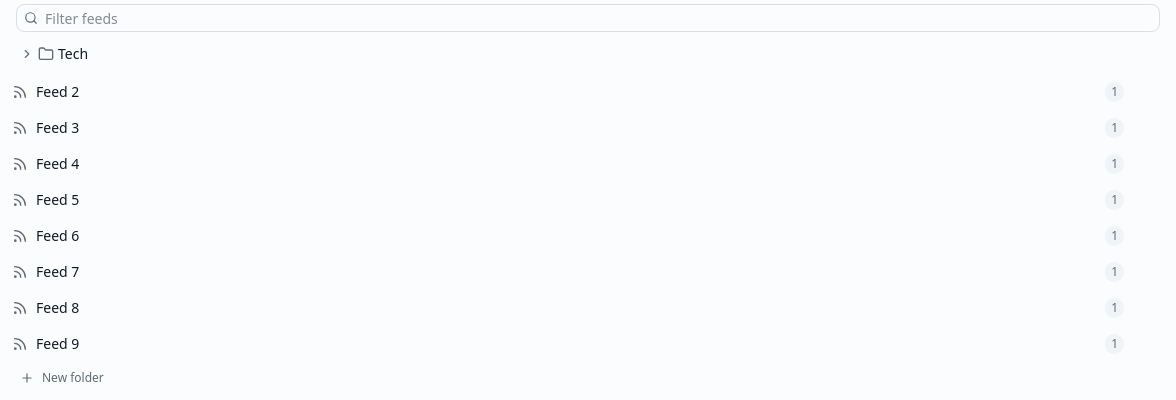
Test case: feed filter and collapse all › the URL matches too, and a folder with no match is hidden
Type "feed5.example" into the field labelled "Filter feeds" at (588, 18), box [16,4,1160,32]
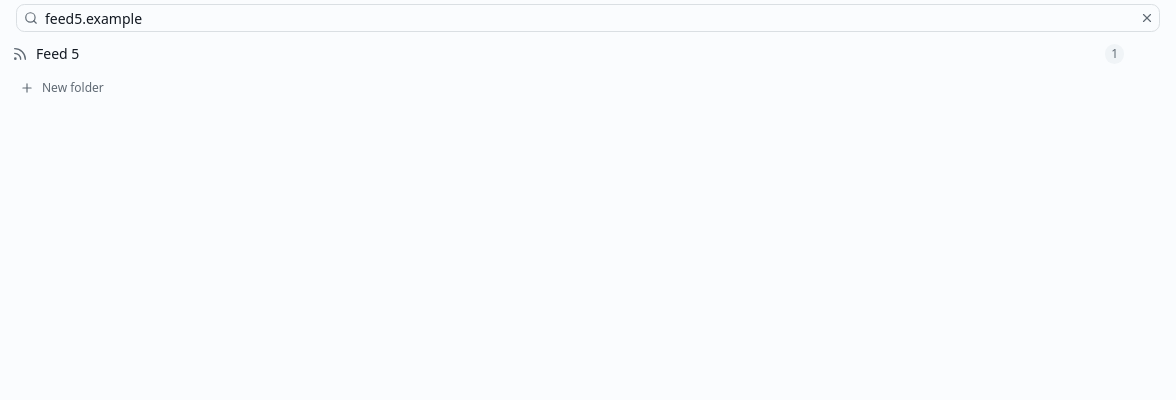
Expected: the button "Feed 5" is shown, [36,44,1097,64]
Expected: the button "Tech" is gone
